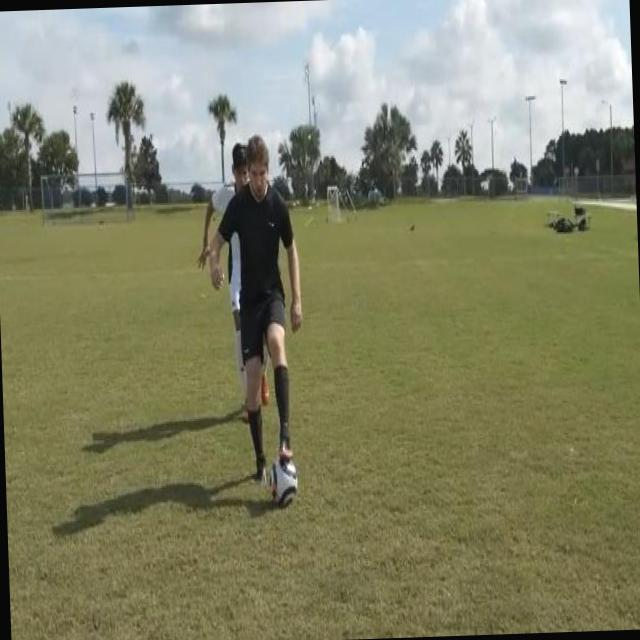Soccer Ball: (266, 450, 300, 510)
